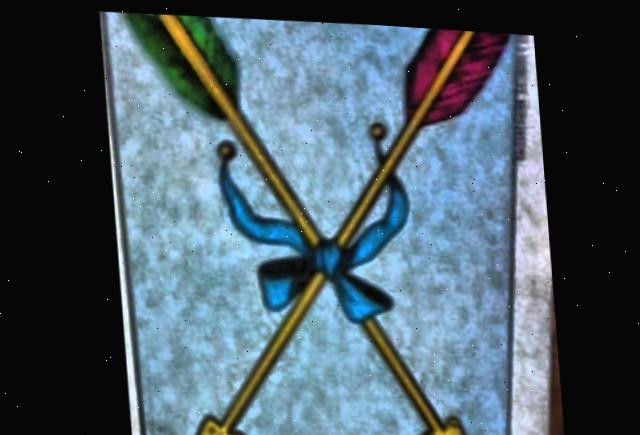Las Jaras: (106, 9, 514, 435)
